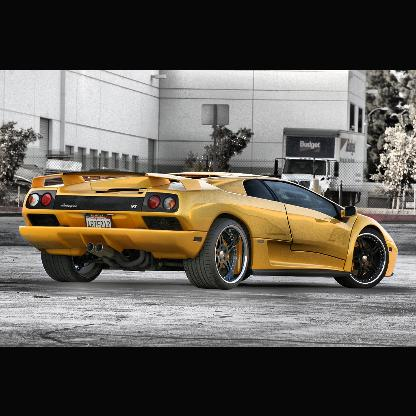Lamborghini Diablo Coupe 2001: (21, 168, 401, 289)
